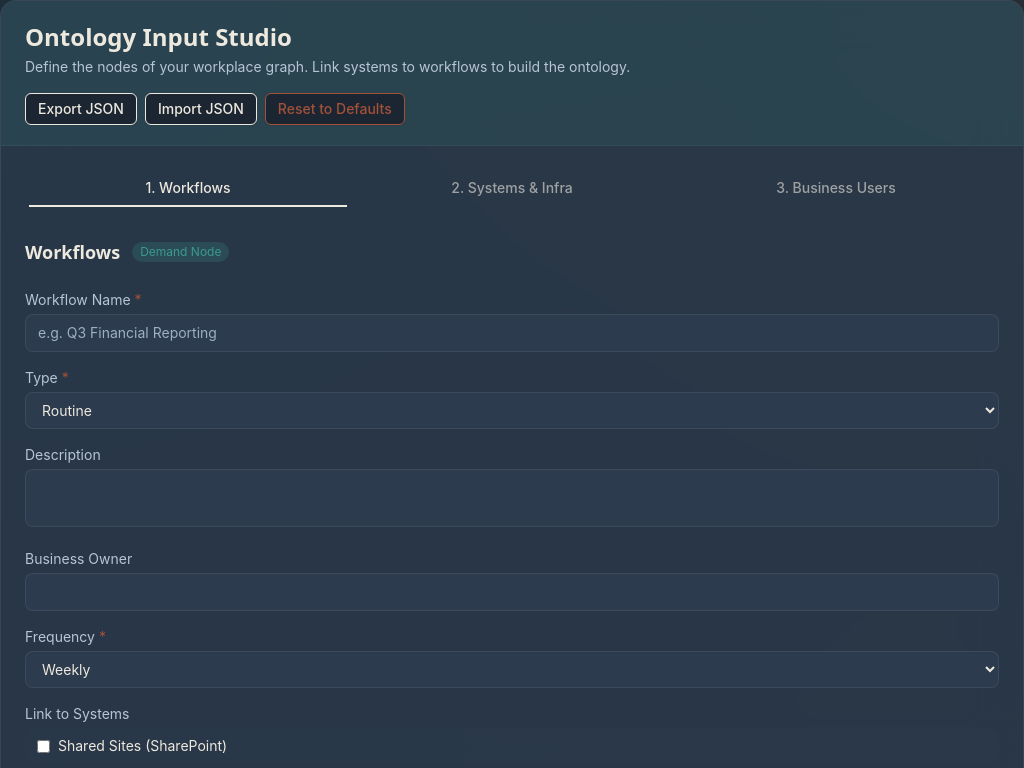
Test: InputStudio integration › switches to persona form on tab click
Click the tab "3. Business Users": (836, 188) [676,174,996,202]
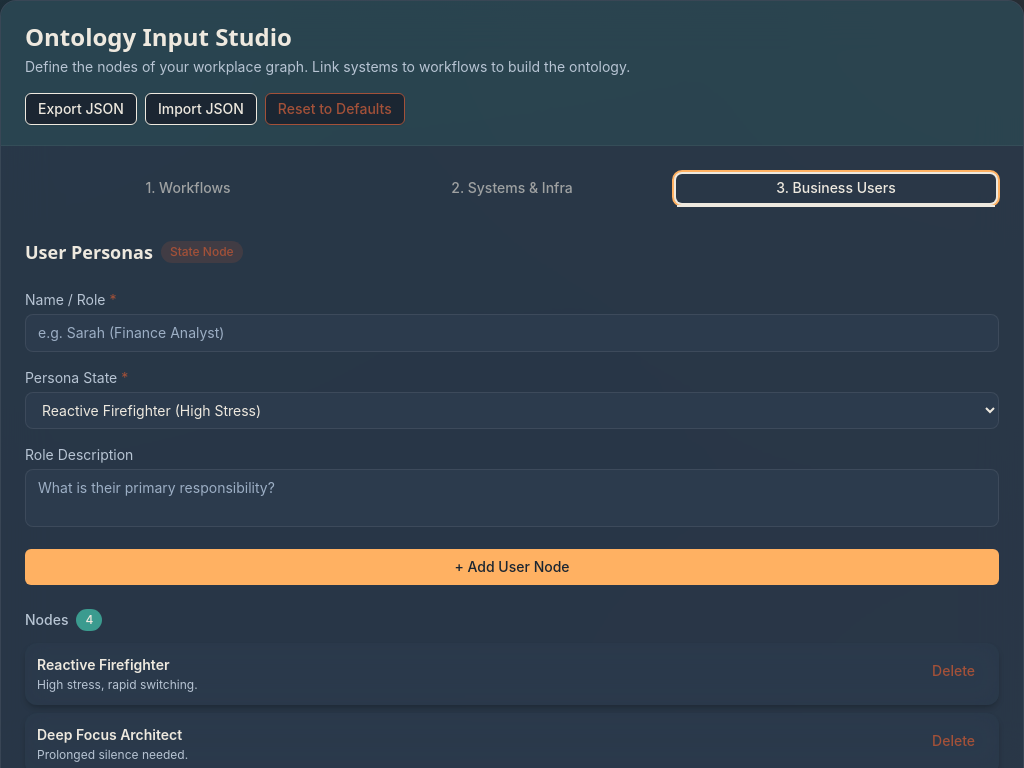
Expected: the field labelled "Name / Role *" is shown, [25,314,999,352]
